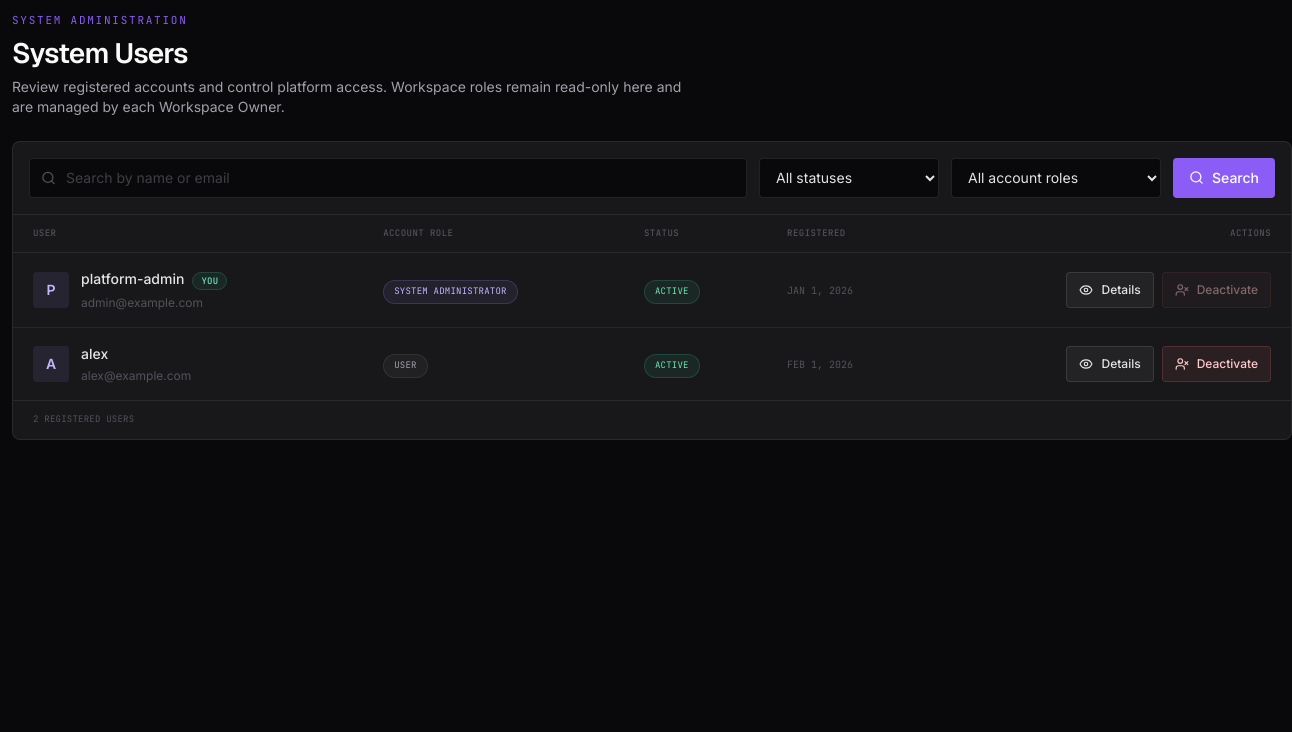
Test case: deactivation uses account status instead of deleting the user
Expected: the text "alex" is shown, [81, 345, 108, 362]
Expected: the button "Deactivate" in the row of "platform-admin" is disabled, [1162, 272, 1271, 308]
Click the button "Deactivate" in the row of "alex@example.com" at [1216, 364], box [1162, 346, 1271, 382]
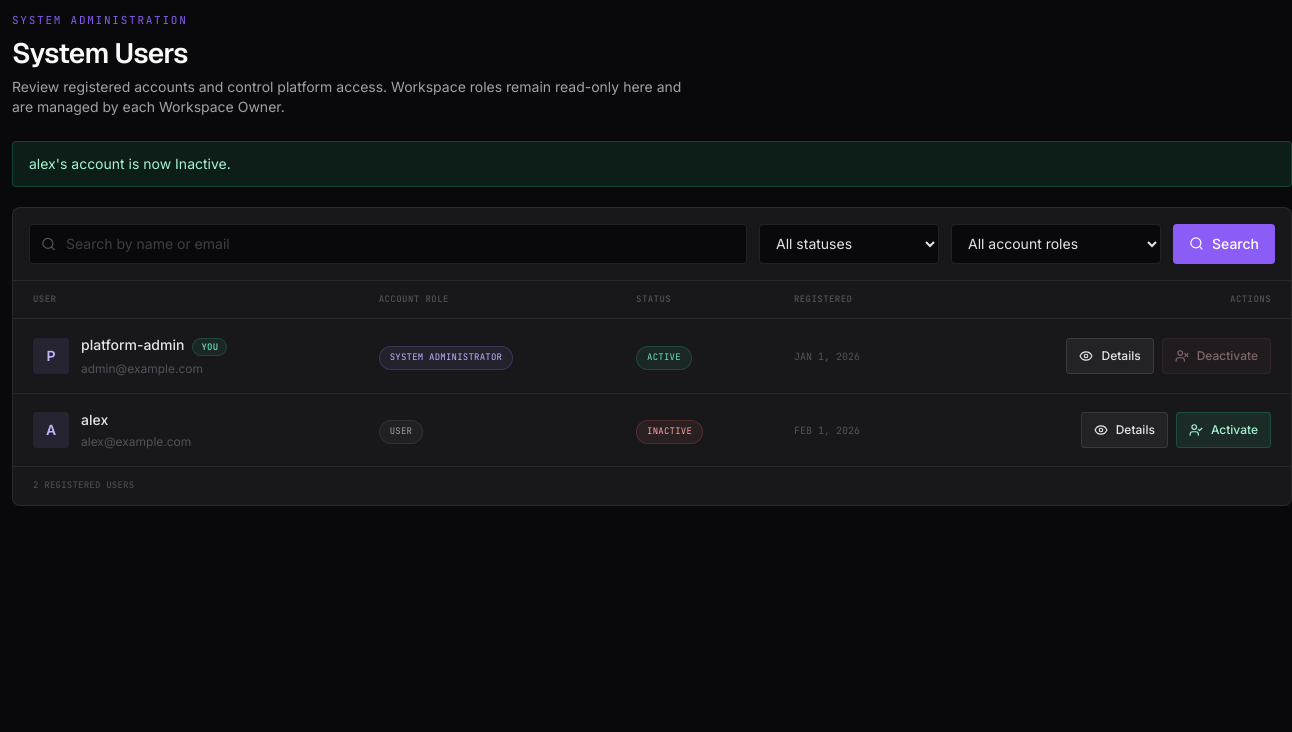
Expected: the text "alex's account is now Inactive." is shown, [12, 140, 1291, 186]
